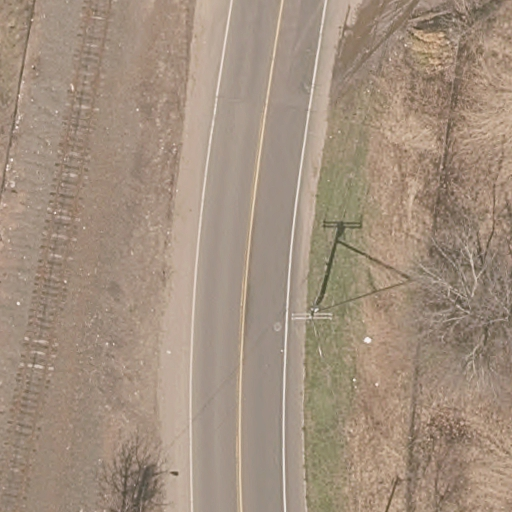DT: (289, 307, 334, 323)
